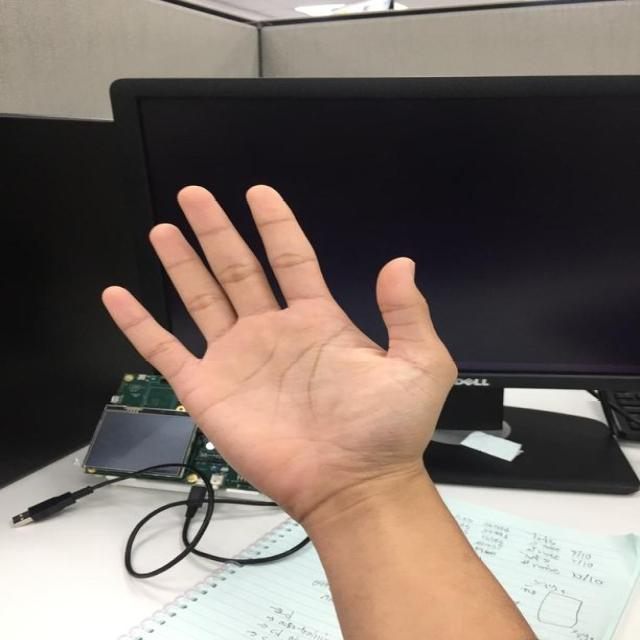no-gloves: (99, 179, 463, 507)
